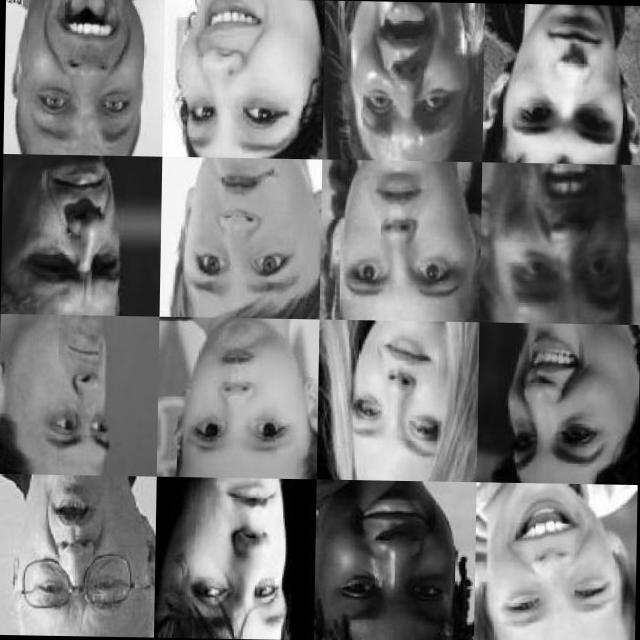angry: (17, 162, 132, 298), (36, 324, 123, 462)
fear: (502, 164, 631, 320), (331, 170, 472, 312), (354, 0, 463, 148)
happy: (324, 490, 462, 634), (176, 0, 299, 159), (494, 491, 622, 639), (27, 0, 144, 154), (494, 328, 614, 478), (342, 326, 454, 468)
neutral: (506, 4, 626, 154), (178, 328, 302, 467)
sad: (176, 164, 314, 310), (172, 481, 292, 636), (17, 481, 139, 625)
